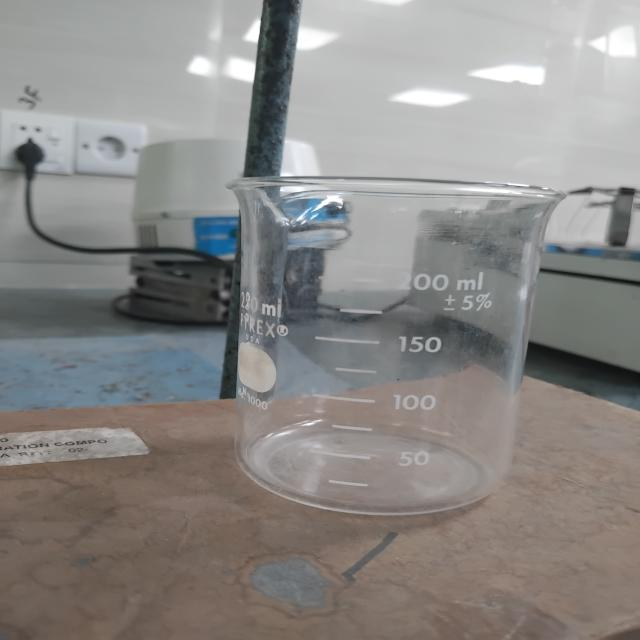Beaker: (165, 146, 603, 547)
